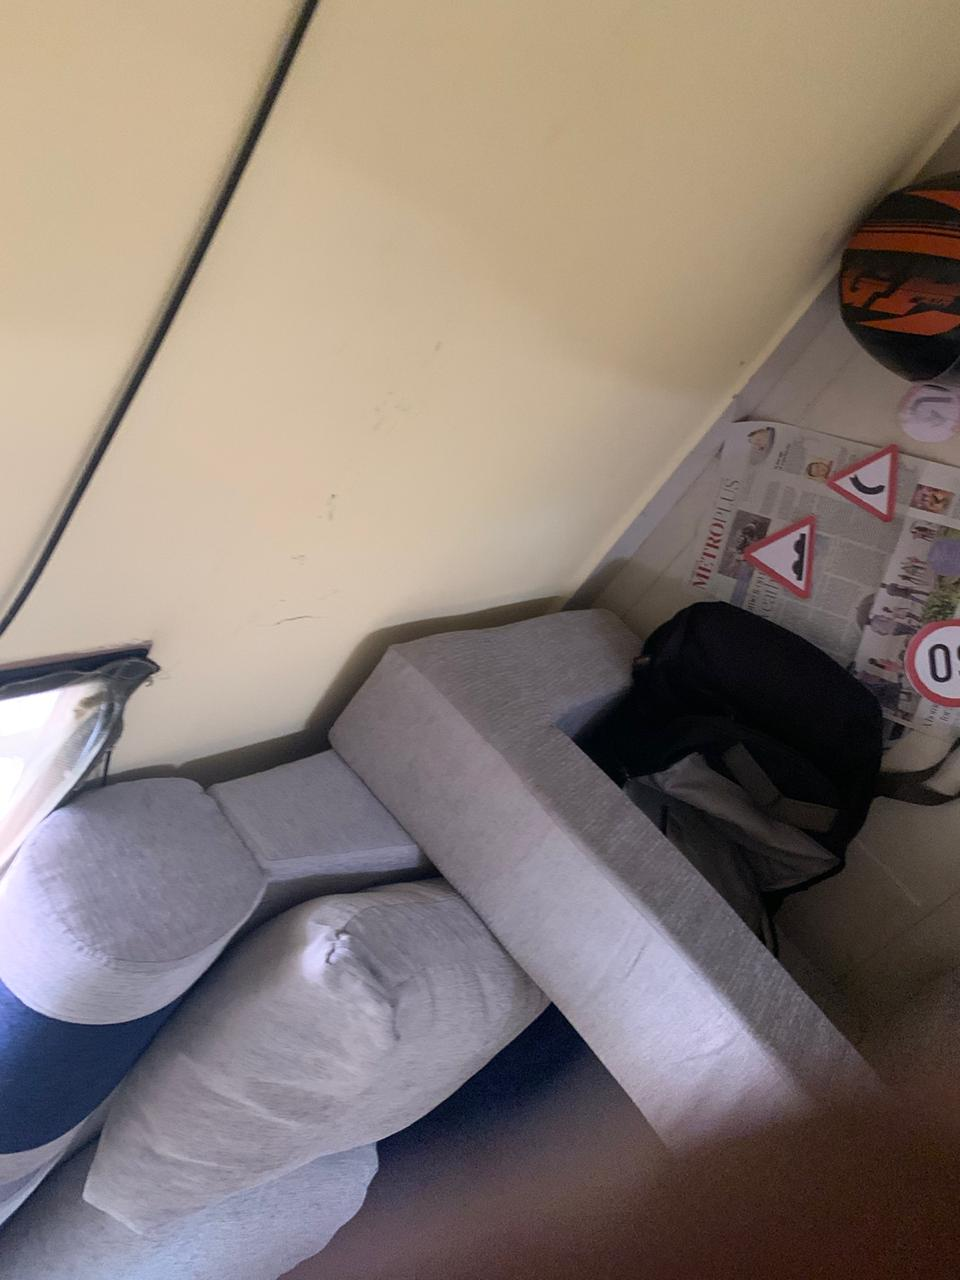LEFT CURVE: (815, 447, 918, 534)
SPEED LIMIT (60 KM/H): (901, 606, 960, 693)
UNEVEN ROAD: (729, 514, 832, 610)
